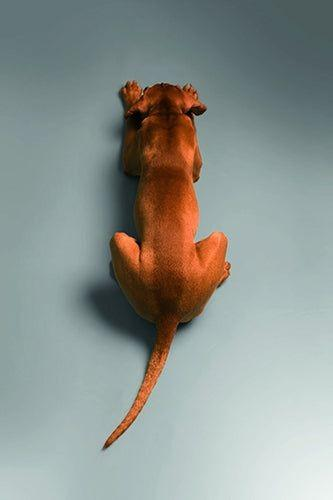puppy-dog: (100, 78, 233, 454)
